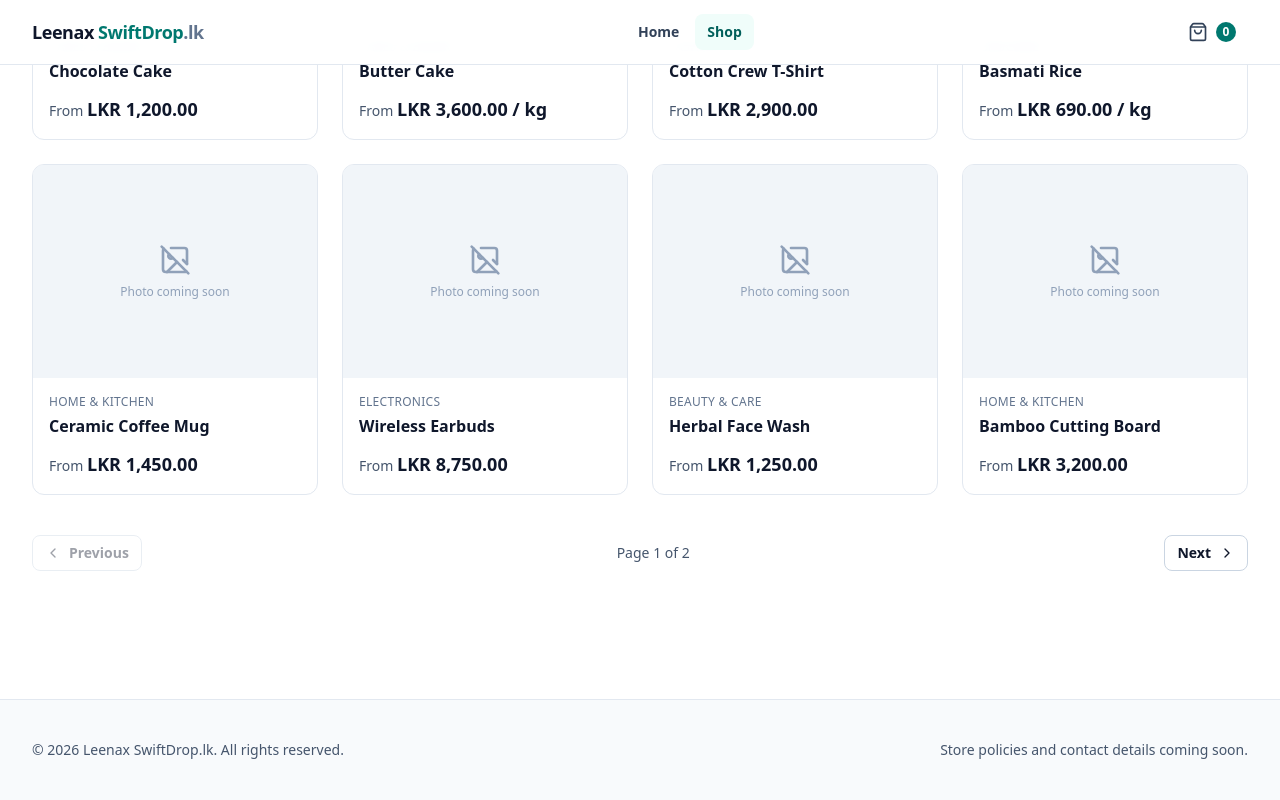
it: product list page › pages through results with Next and Previous
(page scrolled)
Expected: the text "Page 1 of 2" is shown, [617,543,690,563]
Click the link "Next" at (1206, 553), box [1164,535,1248,571]
(page scrolled)
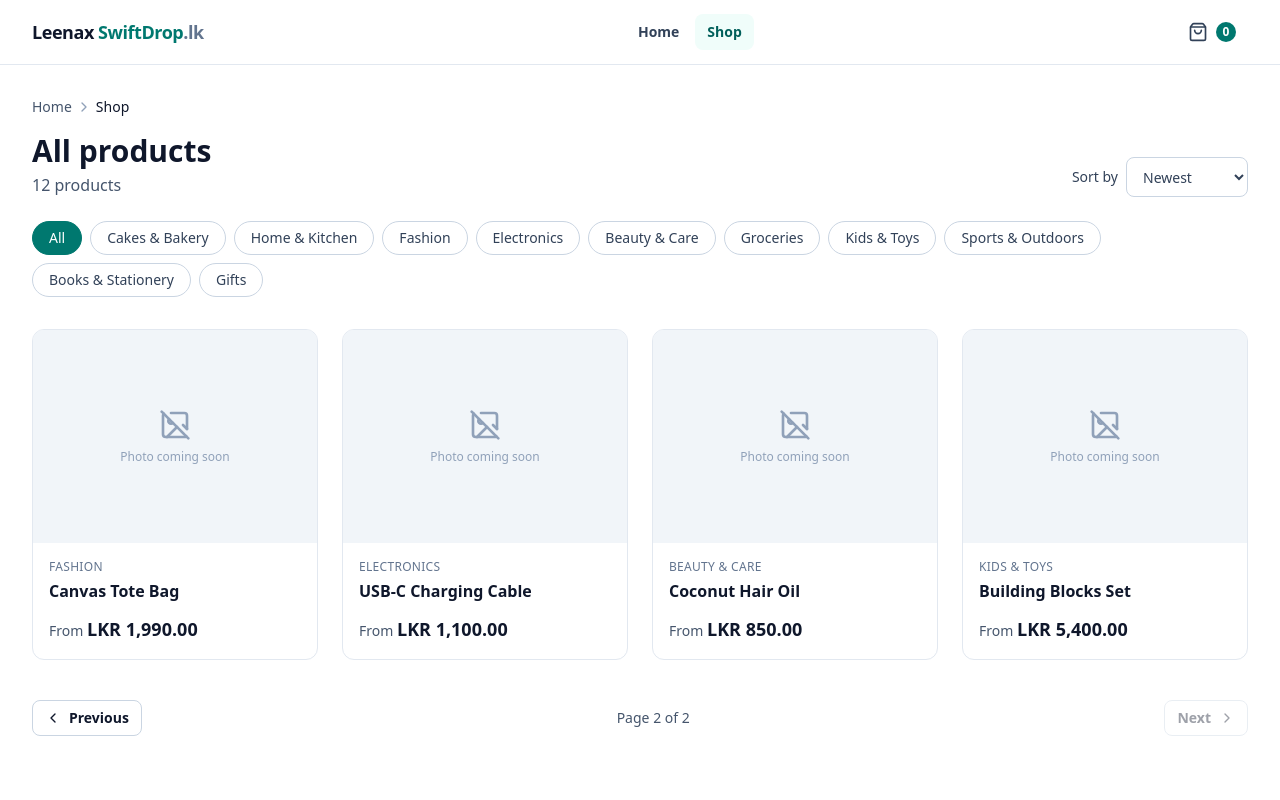
Result: the text "Page 2 of 2" is shown at [617,708,690,728]
